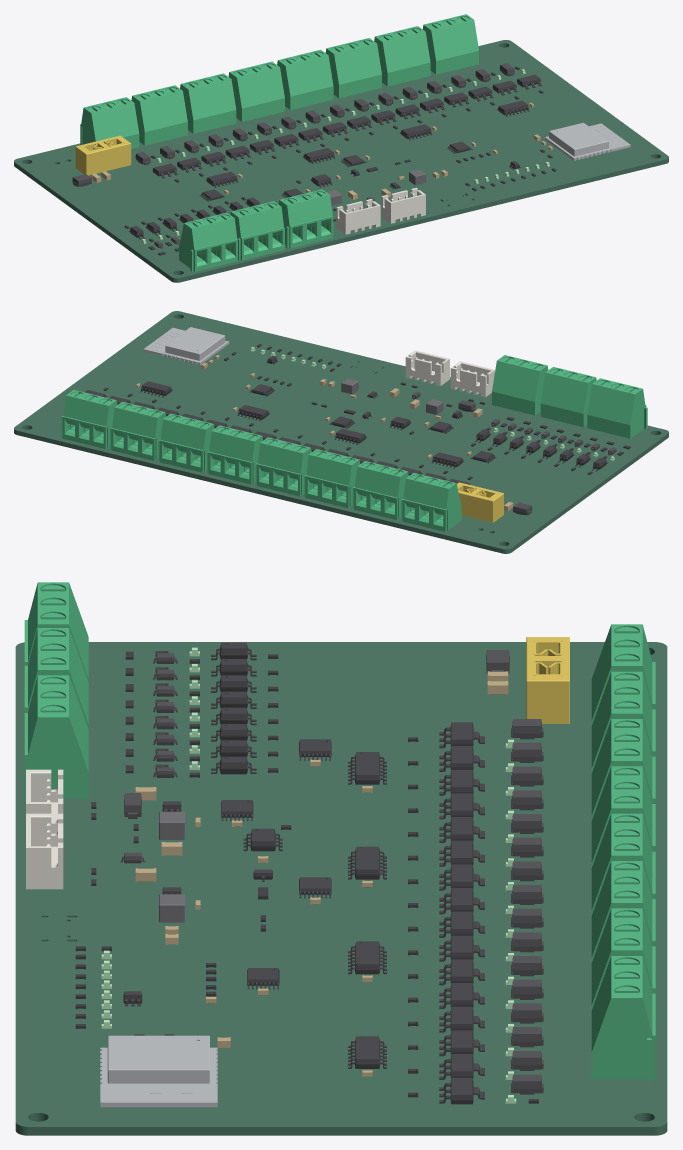
The model's file is AP_RACK16.fbx.
The picture shows the model from 3 angles, top to bottom: view 1: azimuth 30°, elevation 25°; view 2: azimuth 150°, elevation 25°; view 3: azimuth 270°, elevation 25°; orthographic projection. The views are drawn at different scales.
Visible parts, largest first — view 1: =>[0:1:1:25], J3, J12, J10, J7, J8, J13, J9, J11, J5, J4, J6 (+4 smaller); view 2: =>[0:1:1:25], J3, J6, J5, J9, J7, J4, J13, J11, J8, J10, J12 (+4 smaller); view 3: =>[0:1:1:25], U3, J13, J5, F1, J10, J7, J12, J6, J9, J4, J8 (+24 smaller).
Part boxes in pixels (box(x1,y1,x2,y2)): =>[0:1:1:25]: box(14, 40, 668, 282); J3: box(179, 212, 237, 271); J12: box(374, 26, 430, 86); J10: box(277, 49, 333, 110); J7: box(131, 85, 187, 145); J8: box(180, 73, 236, 133); J13: box(422, 14, 478, 74); J9: box(228, 61, 284, 121); J11: box(325, 38, 381, 98); J5: box(278, 189, 333, 248); J4: box(230, 201, 284, 260); J6: box(80, 97, 139, 148); =>[0:1:1:25]: box(14, 311, 668, 553); J3: box(587, 378, 647, 438); J6: box(401, 472, 461, 531); J5: box(492, 355, 548, 415); J9: box(255, 437, 311, 496); J7: box(352, 461, 408, 519); J4: box(540, 367, 596, 427); J13: box(61, 390, 117, 448); J11: box(158, 413, 214, 472); J8: box(304, 449, 360, 508); J10: box(207, 425, 263, 484); J12: box(110, 401, 166, 460); =>[0:1:1:25]: box(15, 642, 667, 1135); U3: box(100, 1035, 217, 1107); J13: box(591, 956, 655, 1081); J5: box(24, 675, 88, 798); F1: box(526, 637, 569, 723); J10: box(591, 813, 655, 915); J7: box(591, 671, 655, 772); J12: box(591, 908, 655, 1009); J6: box(591, 624, 655, 725); J9: box(591, 766, 655, 867); J4: box(24, 628, 88, 729); J8: box(591, 719, 655, 820).
Bounding box in the file's own units: 17.6 × 1.73 × 10.
